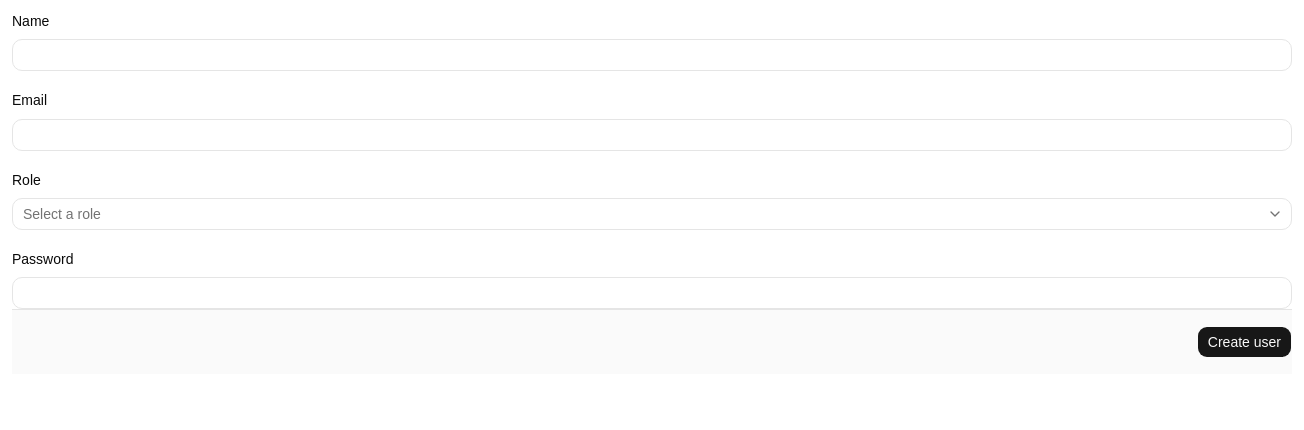
it: UserForm › create mode › shows 'Email is required' rather than a format error when the email is left blank
This screenshot has width=1304, height=430.
Type "Jane Doe" into the field labelled "Name" at (652, 55), box x1=12 y1=39 x2=1292 y2=71
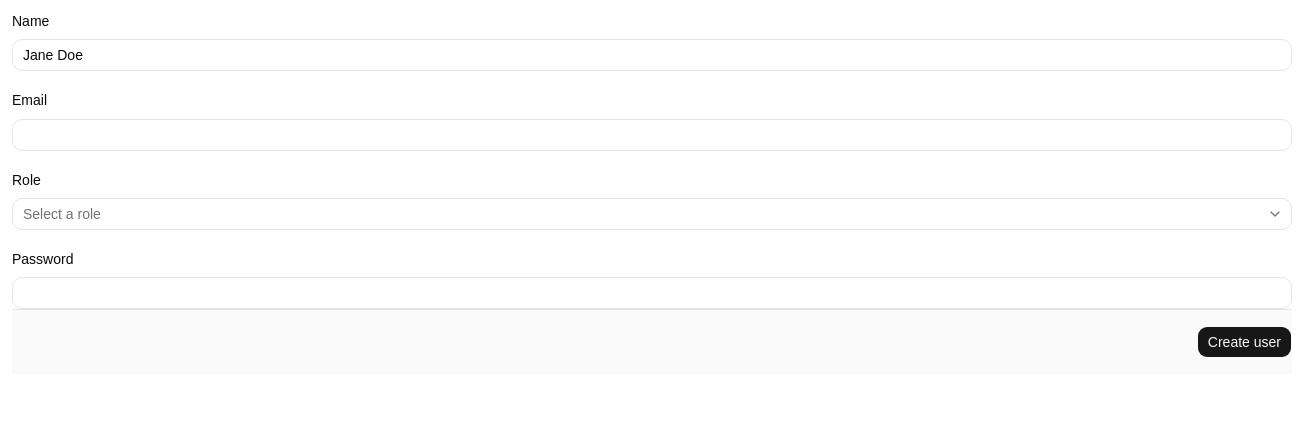
Type "secret" into the password field labelled "Password" at (652, 293), box x1=12 y1=277 x2=1292 y2=309
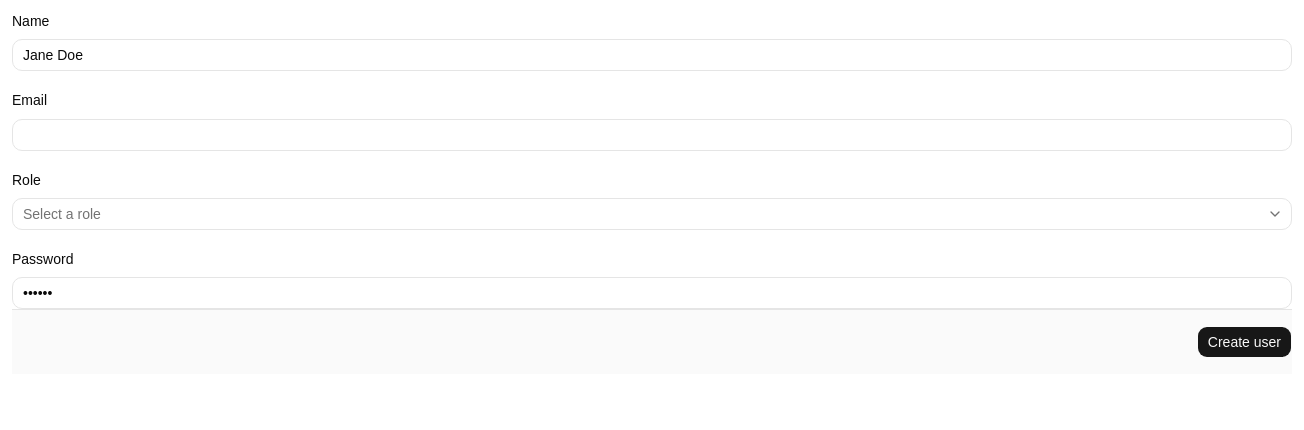
Submit the form
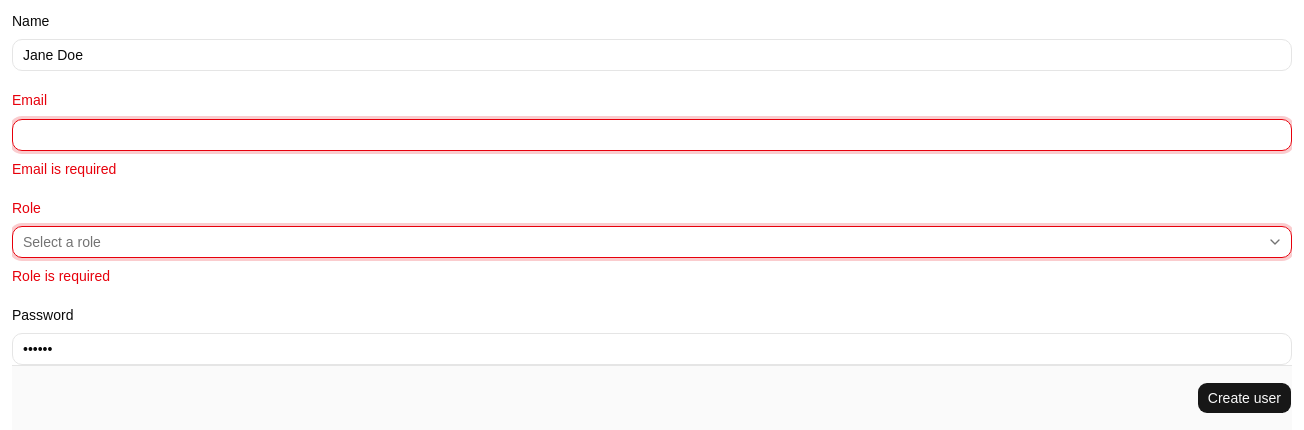
Result: the text "Email is required" is shown at x1=12 y1=160 x2=116 y2=176
